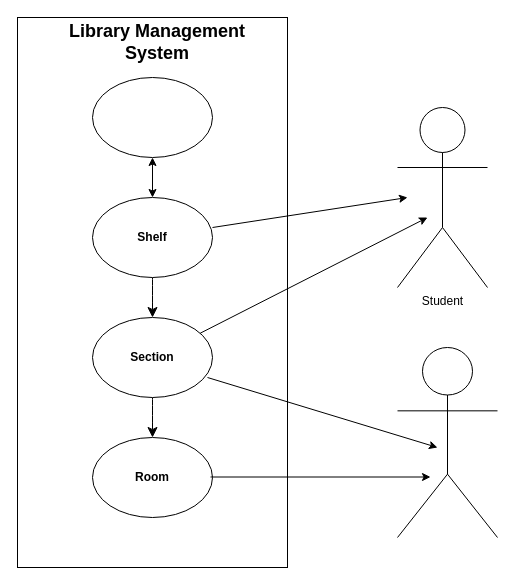
Some shapes in this 515 by 585 pixel diagram are drawn without their labels. Here are the shapes that lost their labels. From the top down, the centre of each, then its label:
At [152,117]: "Book Name".
At [447,442]: "Faculty".
